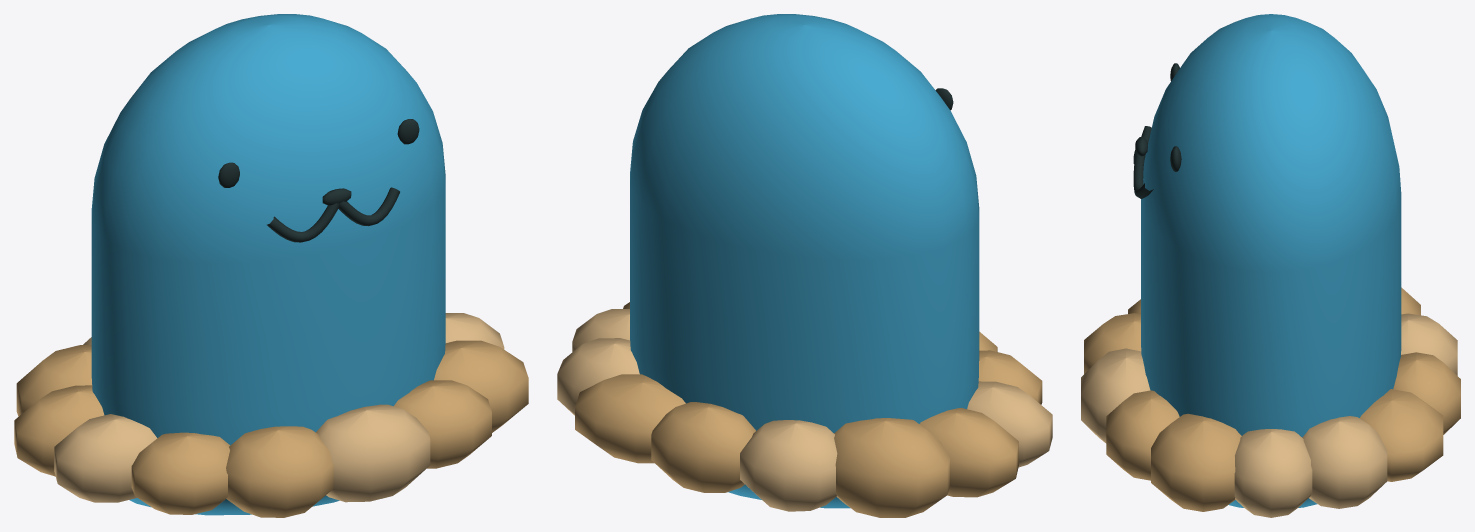
The model's file is poko.glb.
The picture shows the model from 3 angles, left to right: view 1: azimuth 30°, elevation 25°; view 2: azimuth 150°, elevation 25°; view 3: azimuth 270°, elevation 25°; orthographic projection. The views are drawn at different scales.
Parts seen in each view (by area): view 1: BlueBody, Soil_03, Soil_04, Soil_05, Soil_06, Soil_02, Soil_01, Soil_07, Soil_08, Soil_00, SmileLeft, SmileRight; view 2: BlueBody, Soil_08, Soil_09, Soil_10, Soil_11, Soil_07, Soil_06, Soil_12, Soil_05, Soil_00; view 3: BlueBody, Soil_01, Soil_12, Soil_00, Soil_11, Soil_02, Soil_03, Soil_10, Soil_09, Soil_04, SmileRight.
Boxes of the visible parts, x1,y1,x2,y2 form: BlueBody: (91, 14, 445, 515); Soil_03: (316, 404, 430, 502); Soil_04: (226, 426, 333, 517); Soil_05: (131, 432, 230, 514); Soil_06: (54, 414, 157, 502); Soil_02: (394, 380, 491, 468); Soil_01: (434, 340, 528, 432); Soil_07: (14, 385, 104, 476); Soil_08: (16, 345, 91, 416); Soil_00: (445, 313, 504, 349); SmileLeft: (267, 203, 339, 242); SmileRight: (338, 187, 399, 226); BlueBody: (630, 14, 979, 508); Soil_08: (834, 418, 950, 517); Soil_09: (740, 420, 837, 511); Soil_10: (651, 402, 755, 492); Soil_11: (575, 374, 685, 463); Soil_07: (919, 408, 1018, 497); Soil_06: (967, 381, 1052, 467); Soil_12: (557, 338, 639, 415); Soil_05: (978, 350, 1042, 404); Soil_00: (572, 309, 629, 351); BlueBody: (1141, 14, 1401, 507); Soil_01: (1151, 413, 1241, 511); Soil_12: (1302, 416, 1387, 508); Soil_00: (1234, 429, 1312, 517); Soil_11: (1359, 389, 1443, 481); Soil_02: (1106, 390, 1179, 480); Soil_03: (1081, 348, 1150, 443); Soil_10: (1393, 352, 1460, 434); Soil_09: (1401, 313, 1457, 375); Soil_04: (1084, 313, 1141, 373); SmileRight: (1133, 152, 1153, 198).
Bounding box in the file's own units: 2.23 × 1.97 × 1.66.
